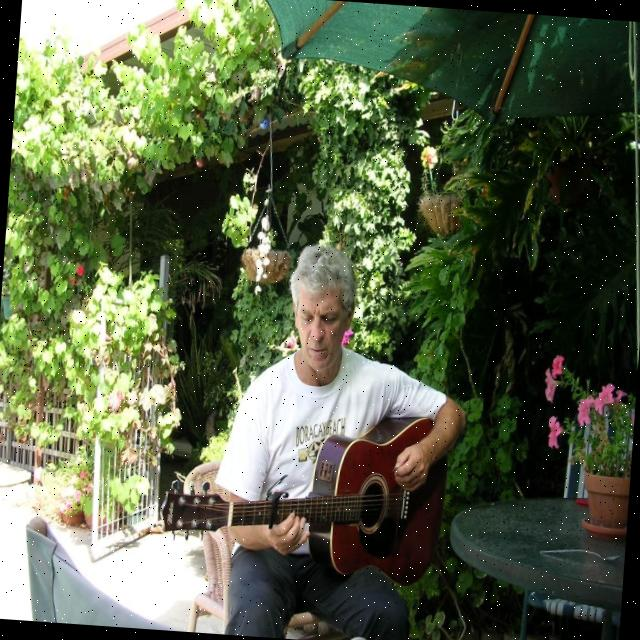guitar: (154, 395, 452, 591)
